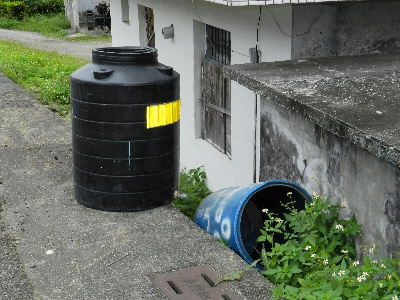bucket: (192, 180, 322, 274)
water_tower: (69, 45, 183, 212)
